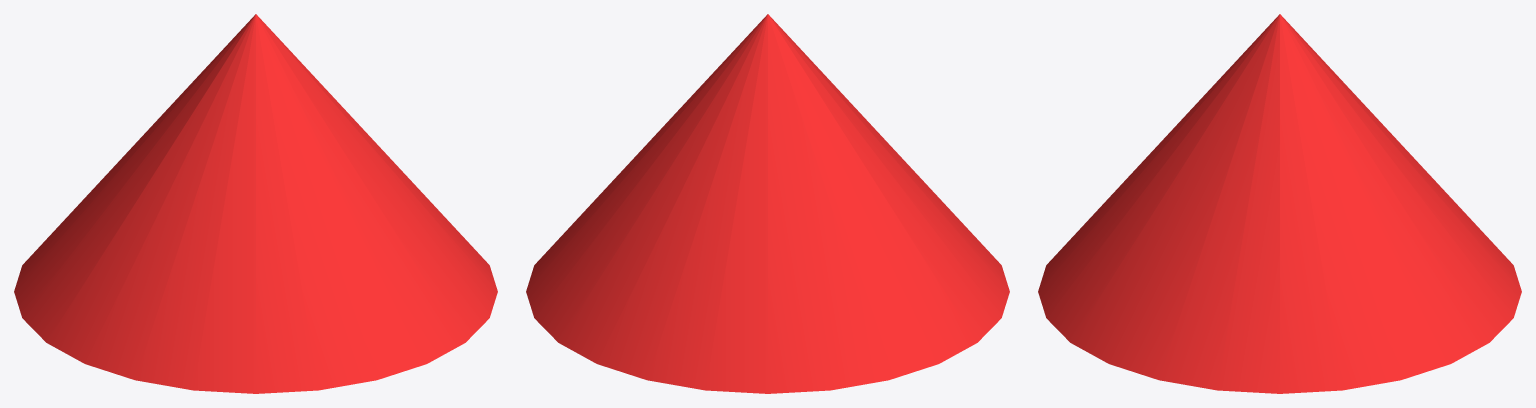
The model's file is cone rouge.dae.
The picture shows the model from 3 angles, left to right: view 1: azimuth 30°, elevation 25°; view 2: azimuth 150°, elevation 25°; view 3: azimuth 270°, elevation 25°; orthographic projection.
Visible parts, largest first — view 1: SketchUp; view 2: SketchUp; view 3: SketchUp.
Part boxes in pixels (box(x1,y1,x2,y2)): SketchUp: box(14, 14, 497, 393); SketchUp: box(526, 14, 1009, 393); SketchUp: box(1038, 14, 1521, 393).
Bounding box in the file's own units: 9266 × 9266 × 5866.
